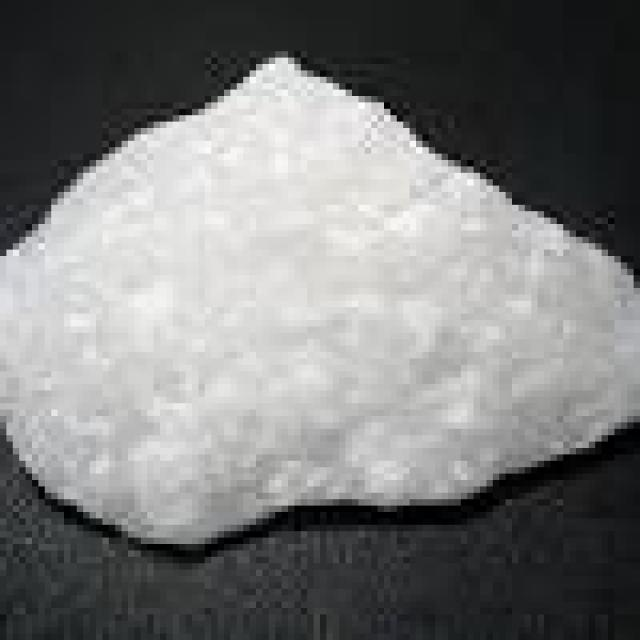Metamorphic: (6, 38, 634, 550)
